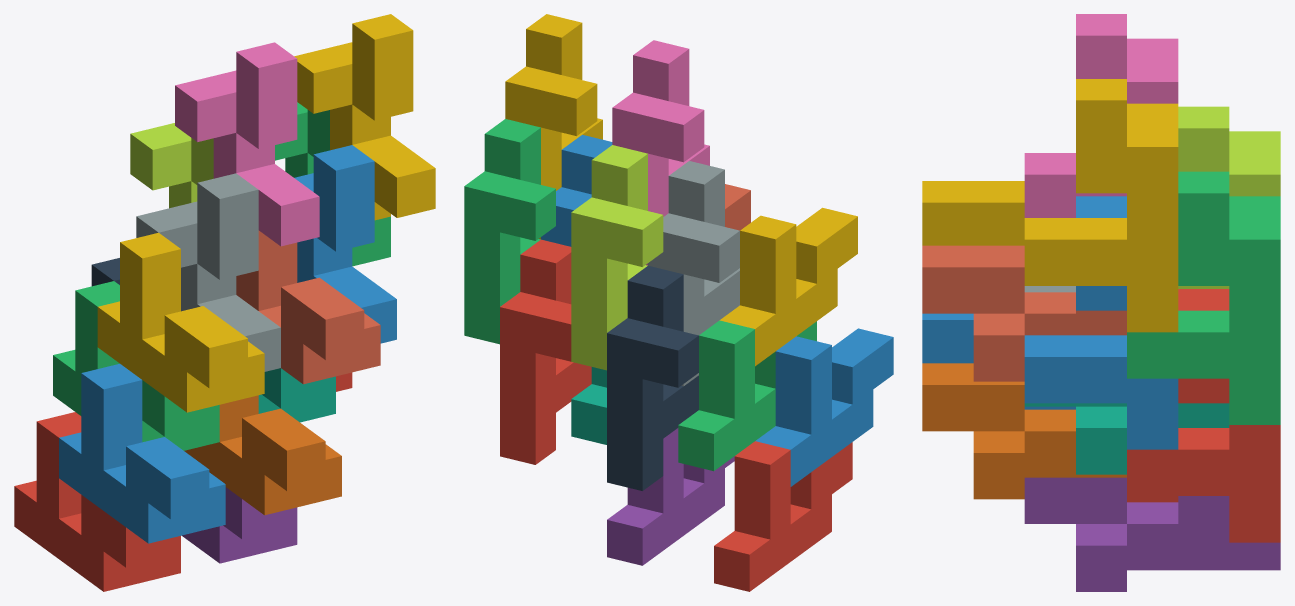
The model's file is tiling.obj.
The picture shows the model from 3 angles, left to right: view 1: azimuth 30°, elevation 25°; view 2: azimuth 150°, elevation 25°; view 3: azimuth 270°, elevation 25°; orthographic projection. The views are drawn at different scales.
Parts seen in each view (by area): view 1: copy_1_domain_2, copy_1_domain_4, copy_2_domain_4, copy_2_domain_8, copy_2_domain_2, copy_1_domain_1, copy_1_domain_8, copy_1_domain_6, copy_2_domain_6, copy_1_domain_3, copy_2_domain_3, copy_1_domain_5 (+3 smaller); view 2: copy_2_domain_1, copy_2_domain_5, copy_2_domain_3, copy_2_domain_7, copy_1_domain_2, copy_1_domain_4, copy_1_domain_1, copy_1_domain_3, copy_2_domain_2, copy_2_domain_8, copy_2_domain_4, copy_1_domain_5 (+3 smaller); view 3: copy_2_domain_8, copy_2_domain_7, copy_1_domain_5, copy_2_domain_5, copy_1_domain_8, copy_1_domain_6, copy_2_domain_6, copy_2_domain_4, copy_2_domain_3, copy_1_domain_4, copy_1_domain_7, copy_1_domain_2.
Part boxes in pixels (box(x1,y1,x2,y2)): copy_1_domain_2: box(59, 363, 225, 543); copy_1_domain_4: box(97, 232, 264, 412); copy_2_domain_4: box(175, 42, 319, 246); copy_2_domain_8: box(294, 14, 435, 220); copy_2_domain_2: box(136, 173, 280, 371); copy_1_domain_1: box(14, 412, 180, 591); copy_1_domain_8: box(236, 230, 380, 384); copy_1_domain_6: box(184, 395, 341, 515); copy_2_domain_6: box(294, 145, 396, 343); copy_1_domain_3: box(53, 281, 219, 450); copy_2_domain_3: box(130, 123, 213, 208); copy_1_domain_5: box(182, 487, 297, 563); copy_2_domain_1: box(607, 265, 698, 490); copy_2_domain_5: box(500, 239, 591, 464); copy_2_domain_3: box(571, 145, 663, 370); copy_2_domain_7: box(464, 119, 555, 344); copy_1_domain_2: box(755, 328, 893, 486); copy_1_domain_4: box(719, 207, 857, 366); copy_1_domain_1: box(714, 441, 852, 591); copy_1_domain_3: box(678, 320, 816, 471); copy_2_domain_2: box(648, 161, 739, 386); copy_2_domain_8: box(505, 14, 602, 239); copy_2_domain_4: box(612, 40, 709, 265); copy_1_domain_5: box(607, 428, 734, 565); copy_2_domain_8: box(1024, 79, 1178, 332); copy_2_domain_7: box(1127, 171, 1280, 424); copy_1_domain_5: box(1024, 477, 1280, 591); copy_2_domain_5: box(1127, 289, 1280, 542); copy_1_domain_8: box(922, 245, 1126, 381); copy_1_domain_6: box(922, 363, 1126, 499); copy_2_domain_6: box(1024, 196, 1178, 449); copy_2_domain_4: box(1024, 14, 1178, 217); copy_2_domain_3: box(1178, 106, 1280, 288); copy_1_domain_4: box(922, 181, 1024, 245); copy_1_domain_7: box(1024, 403, 1229, 474); copy_1_domain_2: box(922, 313, 1075, 409).
Bounding box in the file's own units: 8 × 12 × 7.
